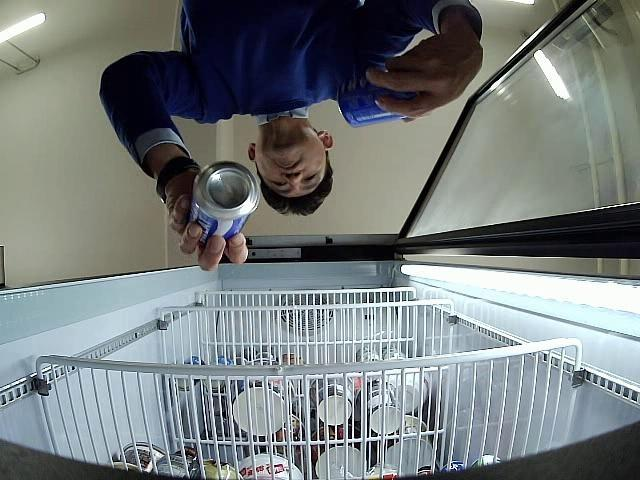13_pocariSweat: (191, 161, 261, 246), (337, 68, 417, 128)
